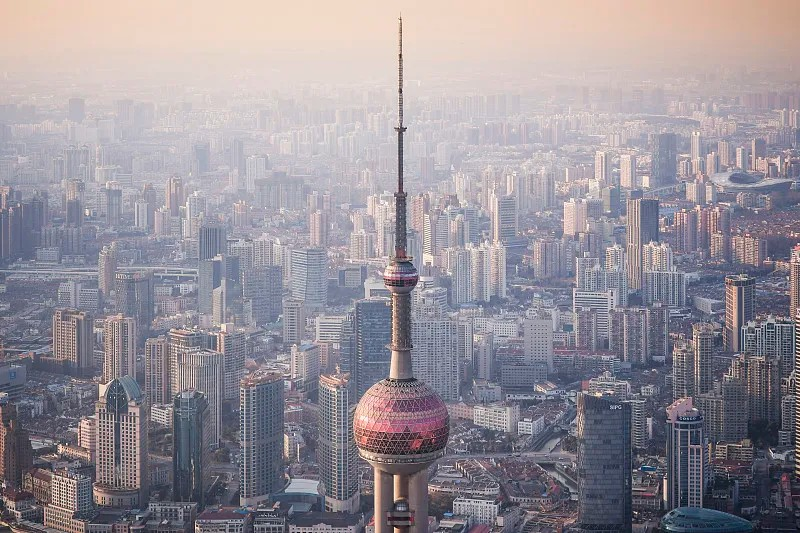Oriental: (353, 13, 450, 533)
